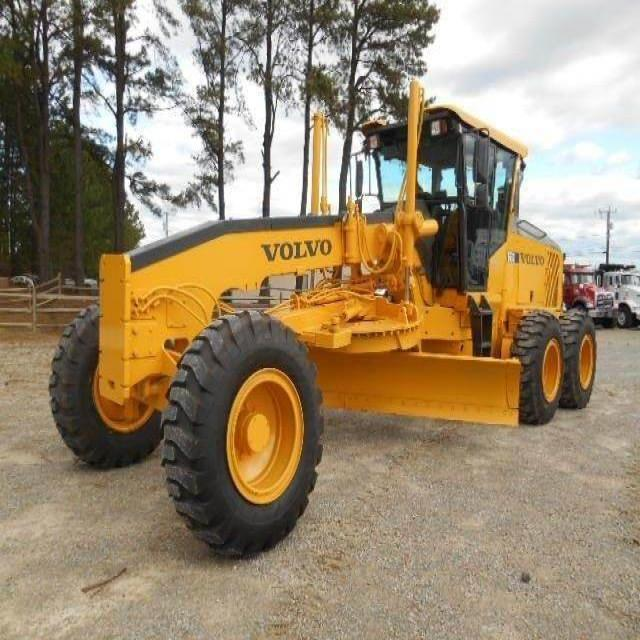Grader: (50, 68, 619, 564)
